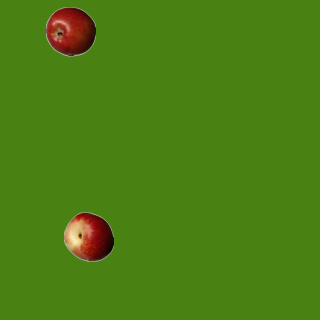Apple Braeburn: (45, 6, 95, 56)
Nectarine: (63, 211, 113, 261)
